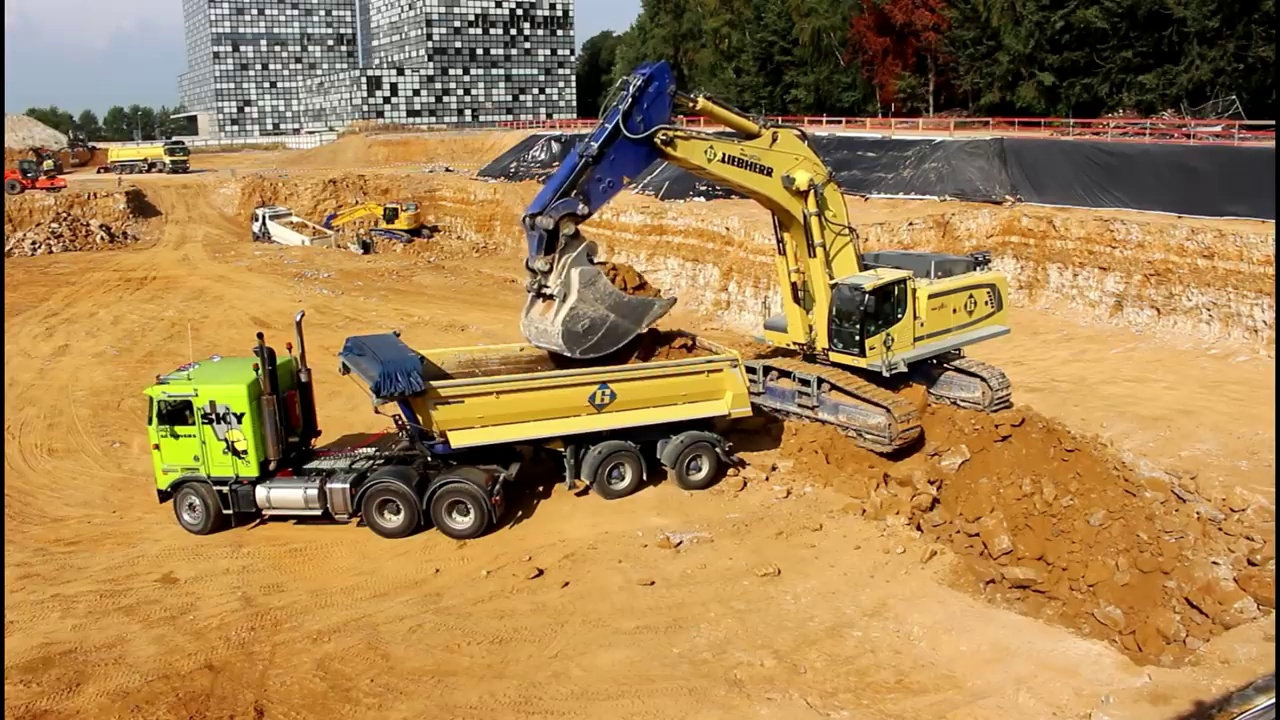compactor: (4, 155, 68, 195)
excavator: (511, 55, 1022, 461), (319, 198, 437, 251), (49, 127, 106, 169)
truck: (135, 306, 763, 544), (247, 203, 339, 267), (105, 131, 197, 182)
